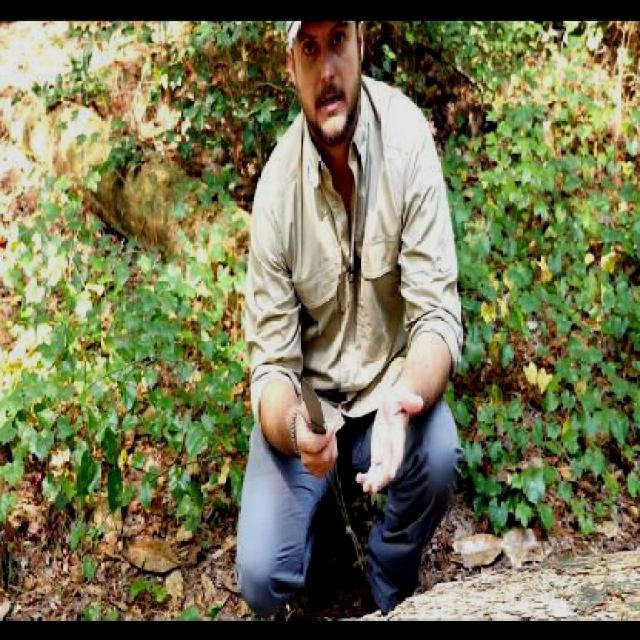knife: (297, 371, 338, 482)
